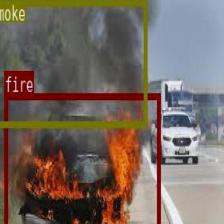fire: (3, 91, 159, 224)
smoke: (0, 0, 147, 125)
